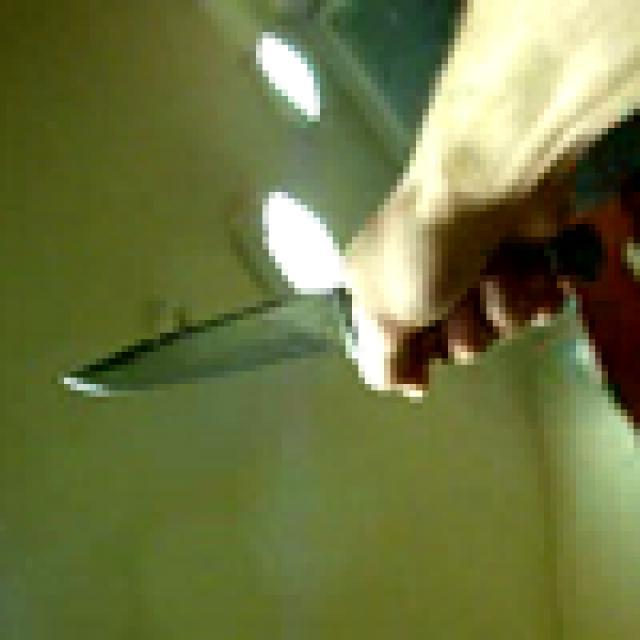knife: (70, 211, 608, 429)
